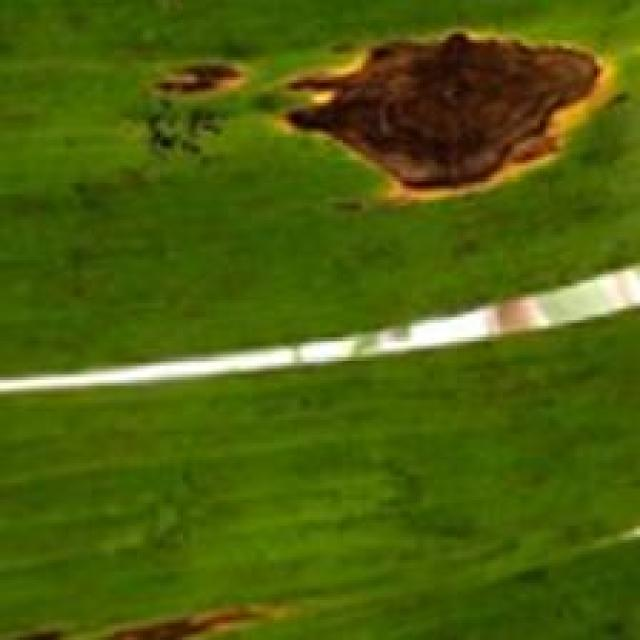Bacterial_spot: (266, 10, 612, 215), (0, 581, 311, 640), (148, 42, 264, 108)
